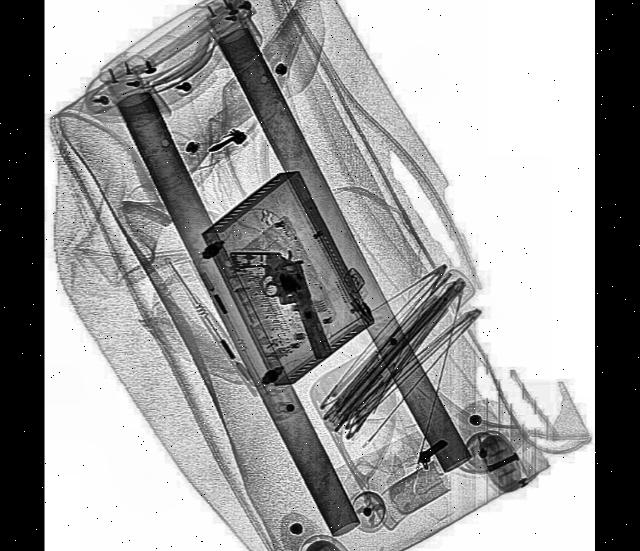Gun: (229, 221, 336, 388)
